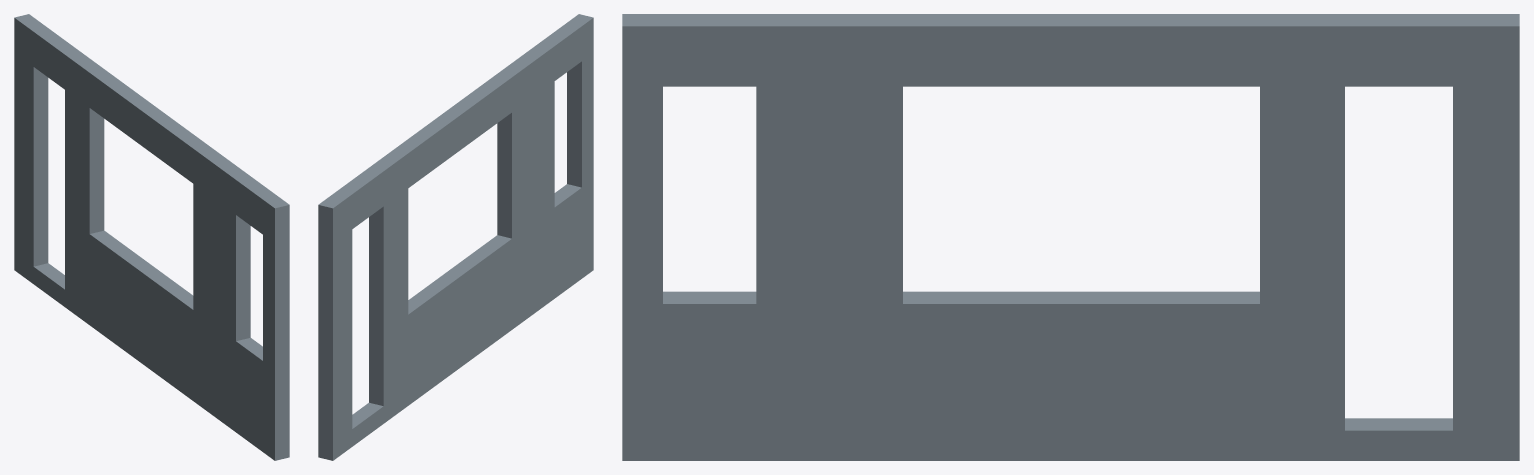
File: porte et 2 fenetre.FBX
3 views of the same model, side by side, from view 1: azimuth 30°, elevation 25°; view 2: azimuth 150°, elevation 25°; view 3: azimuth 270°, elevation 25° (orthographic). The views are drawn at different scales.
Parts seen in each view (by area): view 1: Rectangle18; view 2: Rectangle18; view 3: Rectangle18.
Boxes of the visible parts, x1,y1,x2,y2 form: Rectangle18: (14,14,289,460); Rectangle18: (318,14,593,460); Rectangle18: (622,14,1519,460).
Bounding box in the file's own units: 559 × 9144 × 17107.
